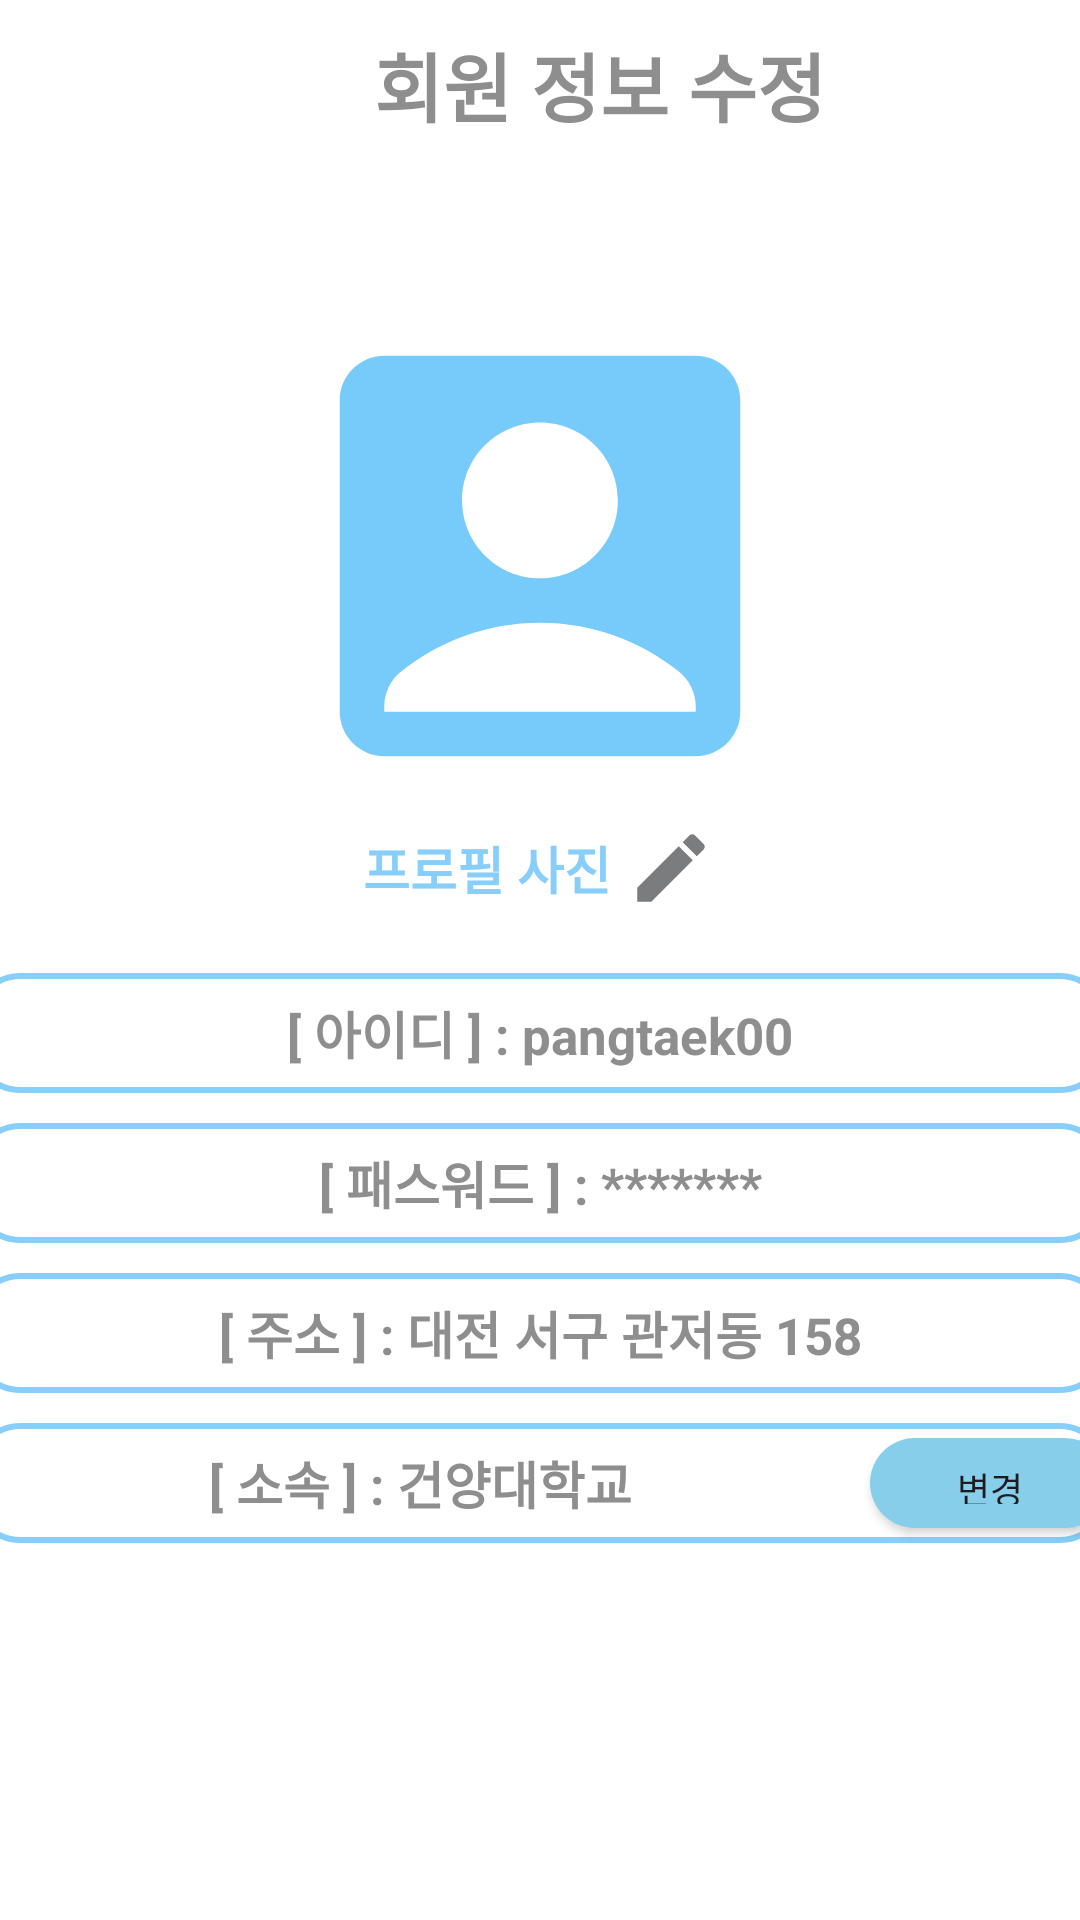

Icon bounding boxes for this 1080px x 1920px phone screenshot, format (x1, y1, x2, y2):
edit: (637, 834, 705, 902)
